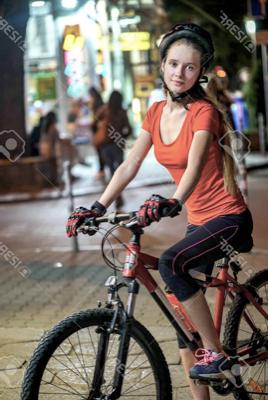With Helmet: (150, 24, 223, 104)
